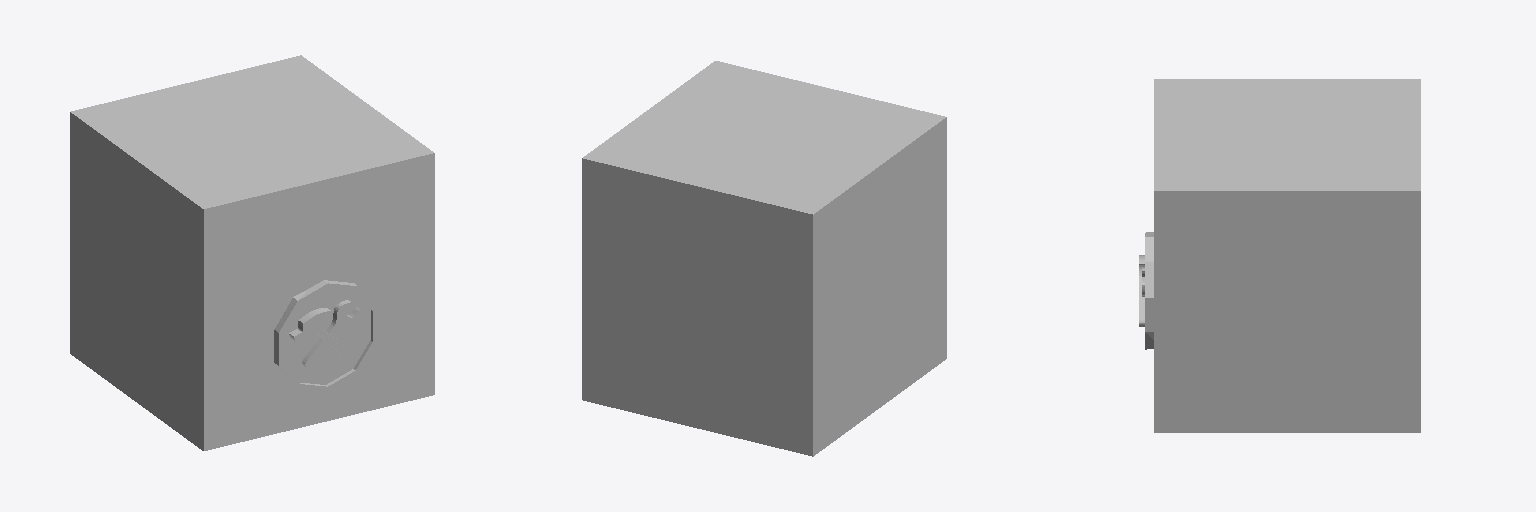
File: Kovanec-popravljen.obj
3 renders of one model, left to right at view 1: azimuth 30°, elevation 25°; view 2: azimuth 150°, elevation 25°; view 3: azimuth 270°, elevation 25°, orthographic.
Parts seen in each view (by area): view 1: Cube, Circle; view 2: Cube; view 3: Cube, Circle.
Part boxes in pixels (bbox=[...]): Cube: bbox=[70, 55, 434, 450]; Circle: bbox=[274, 280, 376, 391]; Cube: bbox=[582, 61, 946, 456]; Cube: bbox=[1154, 79, 1420, 432]; Circle: bbox=[1139, 232, 1153, 349].
Size of the model in its own units: 2.14 by 2.14 by 2.26.